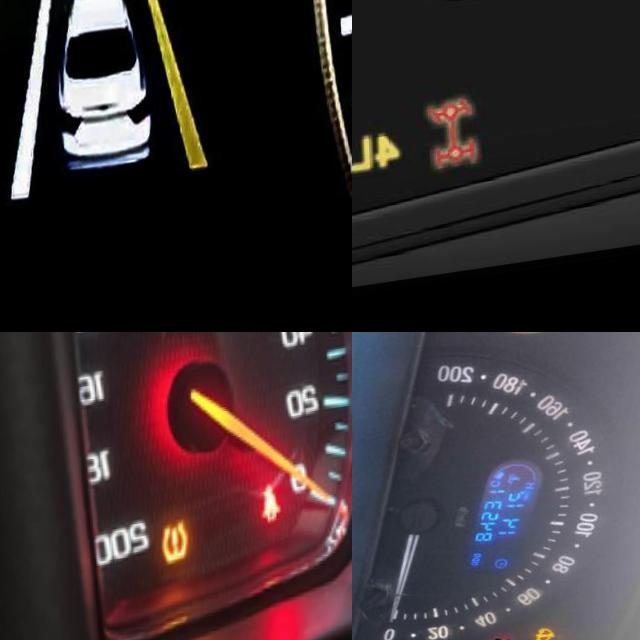Seat Belt: (253, 487, 279, 538)
